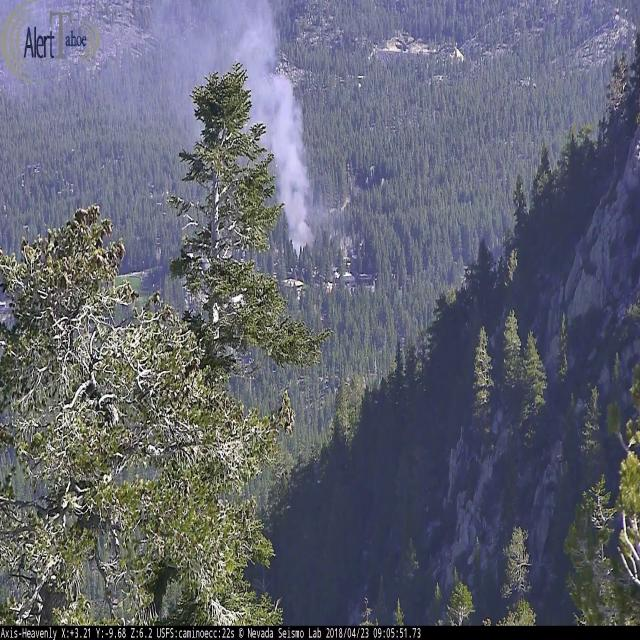smoke: (136, 0, 333, 268)
